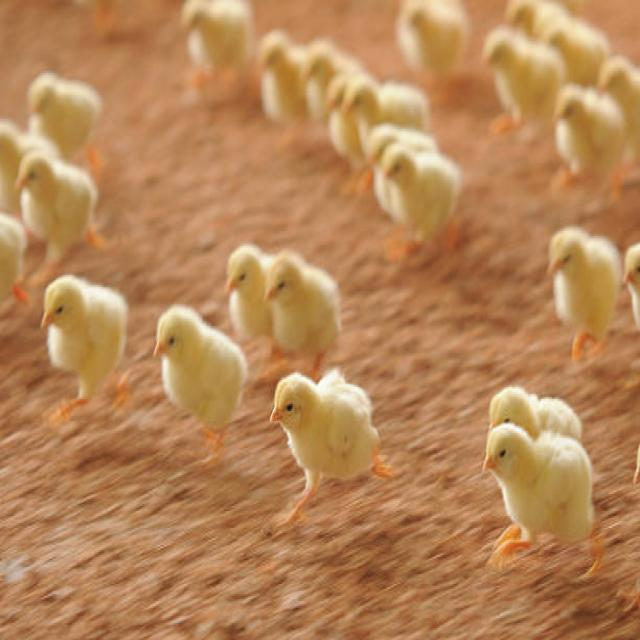Healthy: (263, 367, 407, 538), (479, 419, 613, 583), (146, 296, 252, 477), (40, 270, 137, 435)
